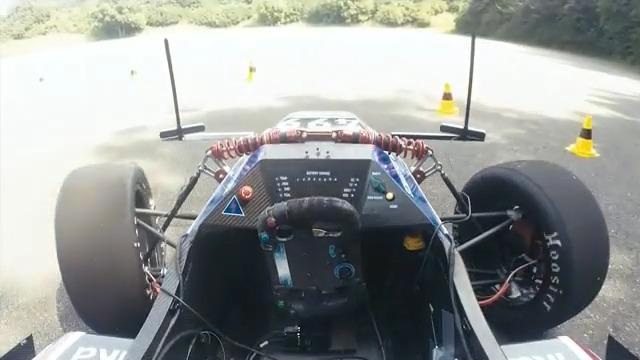yellow_cone: (565, 115, 601, 157), (436, 82, 461, 116)
